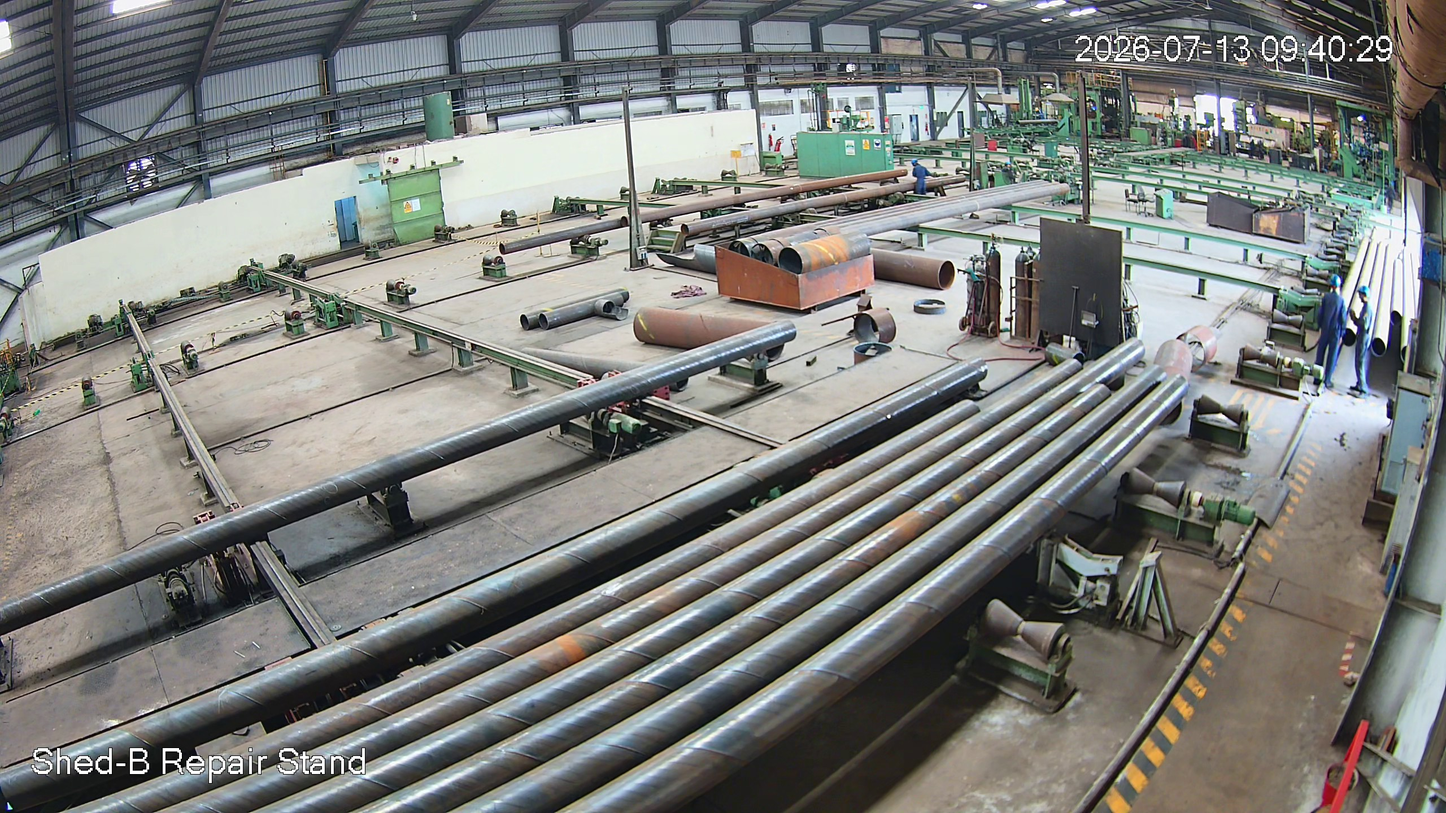Helmet: (1321, 270, 1346, 299), (1354, 280, 1376, 308), (910, 158, 921, 169)
Person: (1312, 274, 1347, 392), (1351, 284, 1373, 399), (909, 159, 930, 197)
